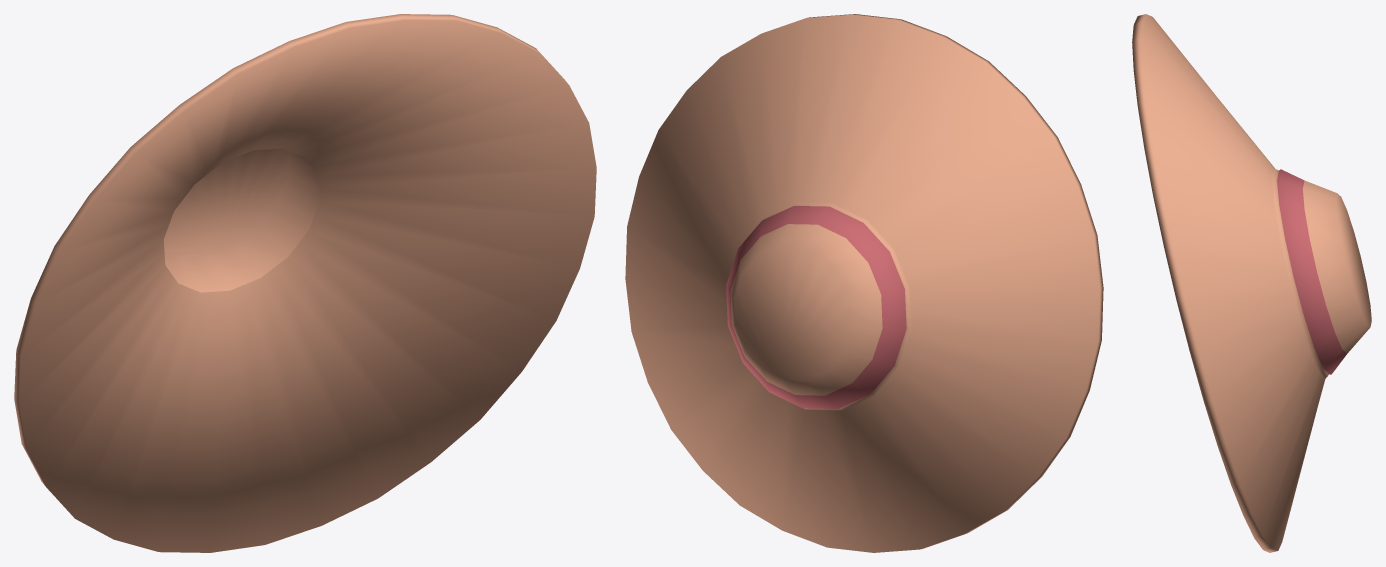
Rendered from hat2.fbx.
3 renders of one model, left to right at view 1: azimuth 30°, elevation 25°; view 2: azimuth 150°, elevation 25°; view 3: azimuth 270°, elevation 25°, orthographic. The views are drawn at different scales.
Parts seen in each view (by area): view 1: hat.001; view 2: hat.001; view 3: hat.001.
Boxes of the visible parts, <box> form: hat.001: <box>14,14,596,552</box>; hat.001: <box>625,14,1103,552</box>; hat.001: <box>1132,14,1371,552</box>.
Size of the model in its own units: 0.6151 by 0.5967 by 0.2665.
